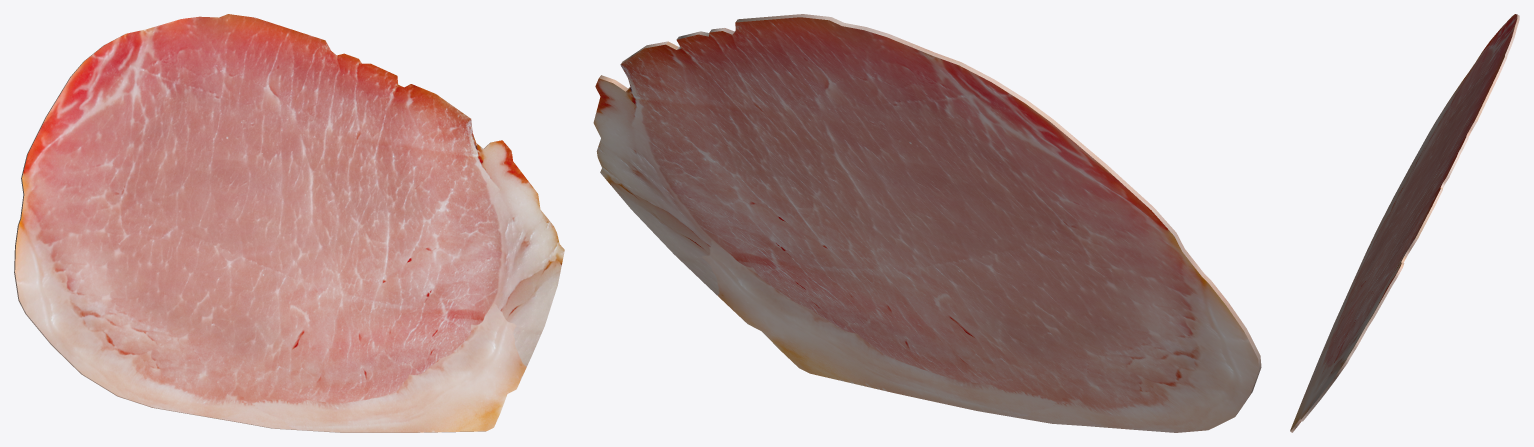
The model's file is cc0_-_slice_of_ham_1k.glb.
3 renders of one model, left to right at view 1: azimuth 30°, elevation 25°; view 2: azimuth 150°, elevation 25°; view 3: azimuth 270°, elevation 25°, orthographic. The views are drawn at different scales.
Parts seen in each view (by area): view 1: SliceofHam; view 2: SliceofHam; view 3: SliceofHam.
Boxes of the visible parts, box(x1,y1,x2,y2) form: SliceofHam: box(14, 14, 564, 432); SliceofHam: box(593, 14, 1261, 432); SliceofHam: box(1290, 14, 1519, 432).
Size of the model in its own units: 0.1469 by 0.1034 by 0.0675.
Materials: 1 (1 with a texture image).
